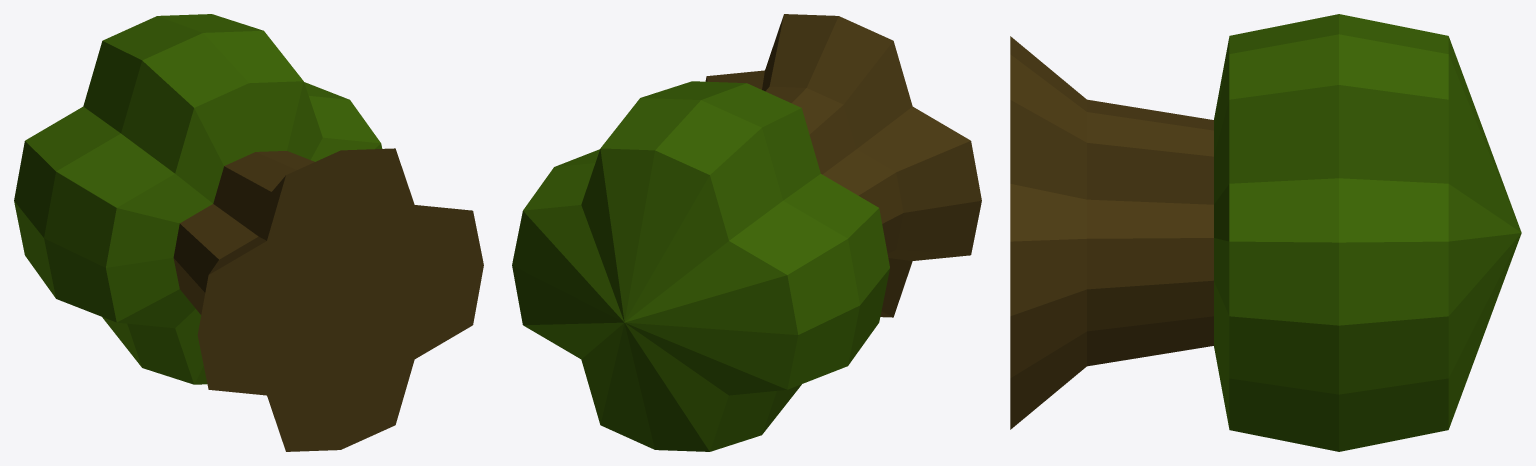
File: Forest.fbx
3 renders of one model, left to right at view 1: azimuth 30°, elevation 25°; view 2: azimuth 150°, elevation 25°; view 3: azimuth 270°, elevation 25°, orthographic. The views are drawn at different scales.
Visible parts, largest first — view 1: Cylinder; view 2: Cylinder; view 3: Cylinder.
Boxes of the visible parts, <box> form: Cylinder: <box>14,14,483,451</box>; Cylinder: <box>512,14,981,451</box>; Cylinder: <box>1010,14,1521,451</box>.
Bounding box in the file's own units: 4 × 4 × 4.67.
